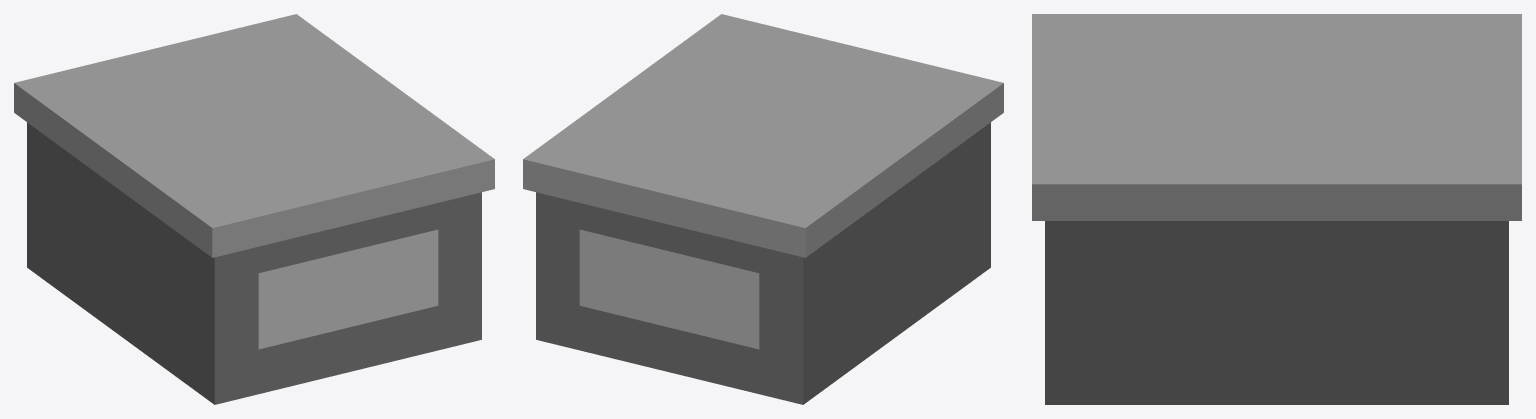
The model's file is ShoeBox.glb.
3 views of the same model, side by side, from view 1: azimuth 30°, elevation 25°; view 2: azimuth 150°, elevation 25°; view 3: azimuth 270°, elevation 25° (orthographic). The views are drawn at different scales.
Visible parts, largest first — view 1: SI_Prop_Shoe_Box_01; view 2: SI_Prop_Shoe_Box_01; view 3: SI_Prop_Shoe_Box_01.
Boxes of the visible parts, x1,y1,x2,y2 form: SI_Prop_Shoe_Box_01: [14, 14, 494, 404]; SI_Prop_Shoe_Box_01: [523, 14, 1003, 404]; SI_Prop_Shoe_Box_01: [1032, 14, 1521, 404].
Bounding box in the file's own units: 0.00539 × 0.00333 × 0.00656.
1 material, 1 textured.
